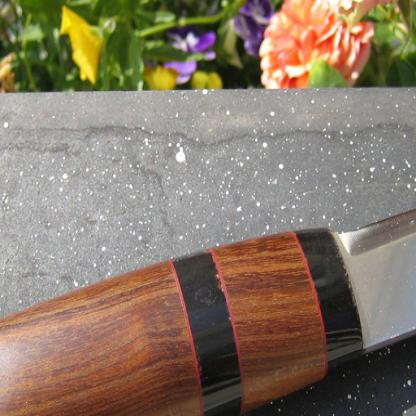knife: (0, 181, 415, 415)
